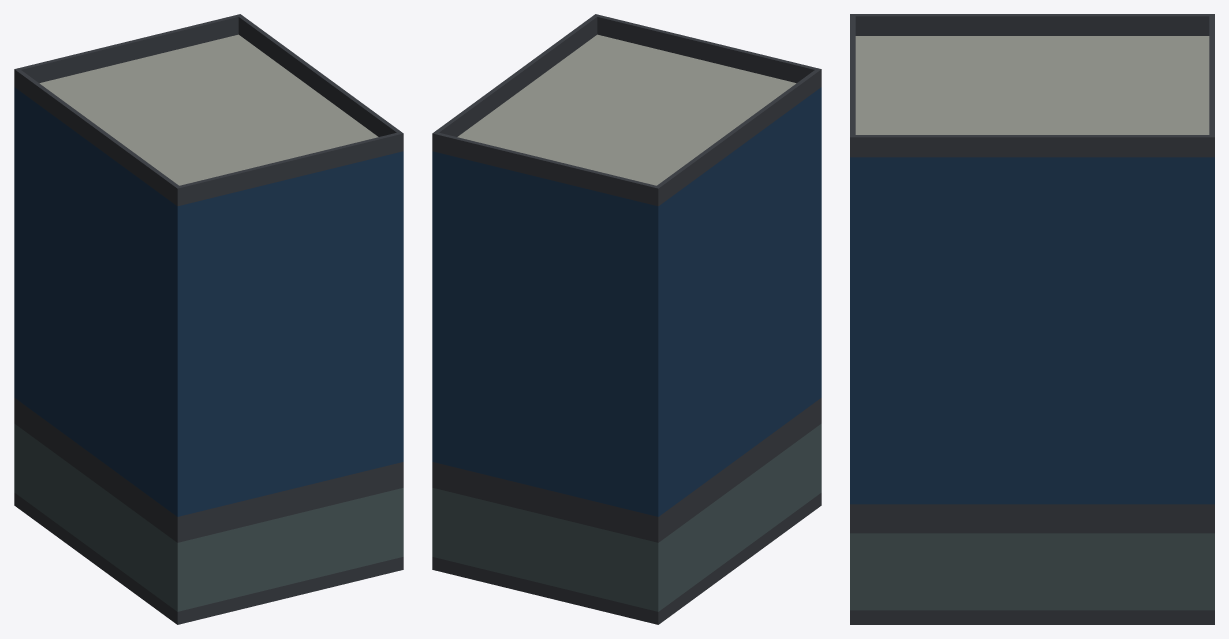
File: far.fbx
3 renders of one model, left to right at view 1: azimuth 30°, elevation 25°; view 2: azimuth 150°, elevation 25°; view 3: azimuth 270°, elevation 25°, orthographic. The views are drawn at different scales.
Parts seen in each view (by area): view 1: a2009/800/far; view 2: a2009/800/far; view 3: a2009/800/far.
Part boxes in pixels (bbox=[...]): a2009/800/far: bbox=[14, 14, 403, 624]; a2009/800/far: bbox=[432, 14, 821, 624]; a2009/800/far: bbox=[850, 14, 1214, 624].
Size of the model in its own units: 16 by 29.5 by 20.
